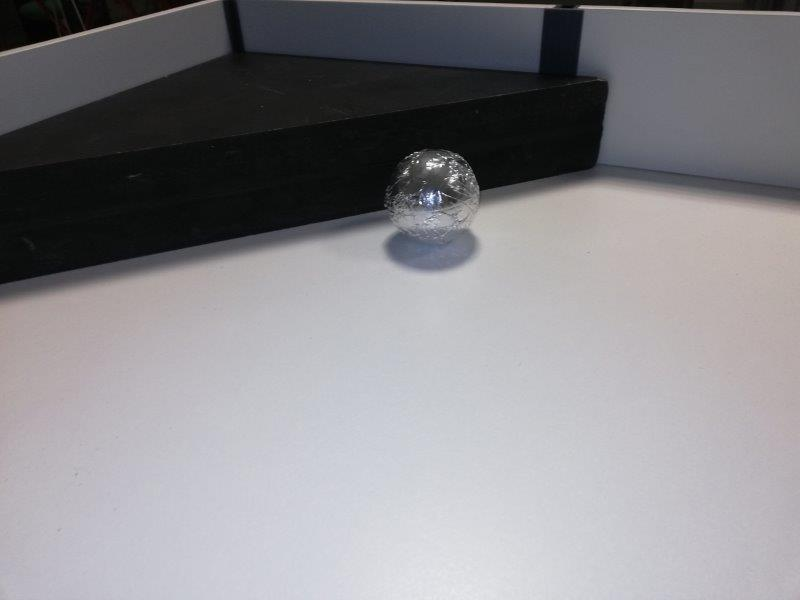bianca: (384, 149, 480, 244)
